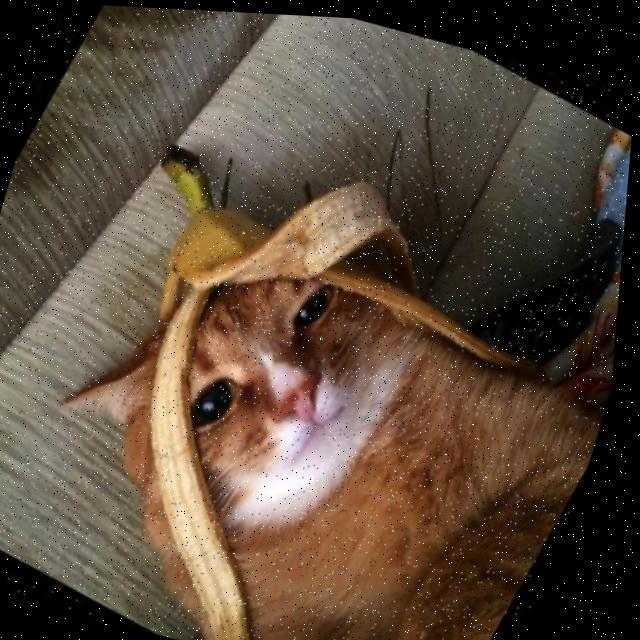Cats: (0, 117, 633, 640)
